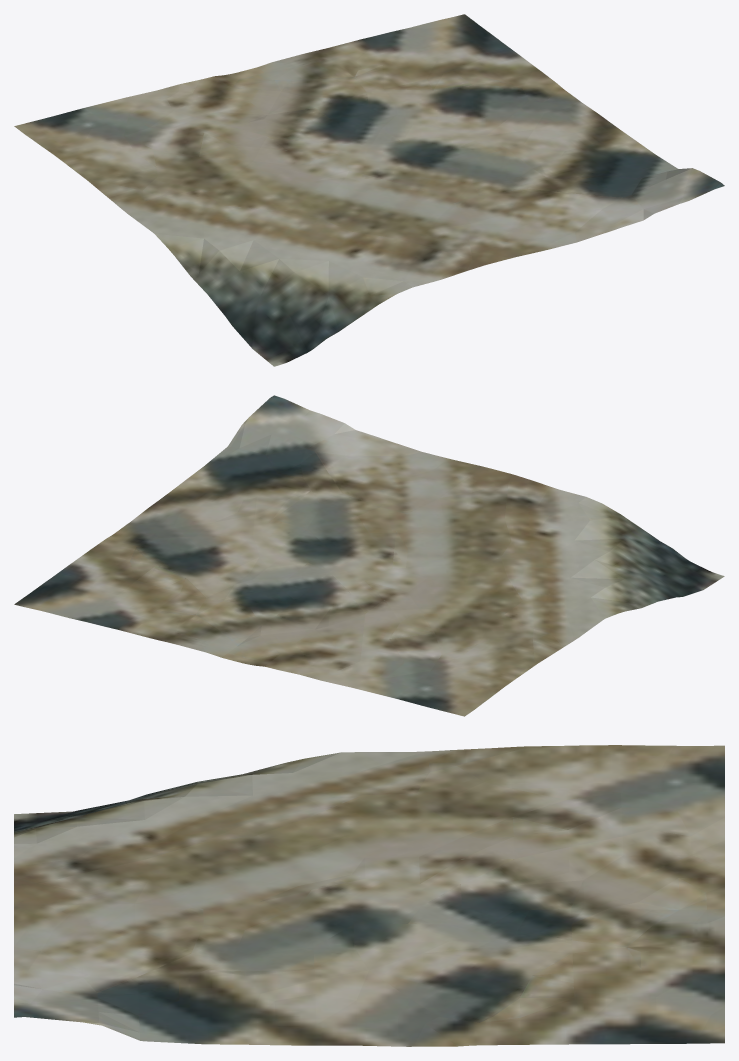
The picture shows the model from 3 angles, top to bottom: view 1: azimuth 30°, elevation 25°; view 2: azimuth 150°, elevation 25°; view 3: azimuth 270°, elevation 25°; orthographic projection. The views are drawn at different scales.
Size of the model in its own units: 52.22 by 7.92 by 52.22.
2 materials, 2 textured.
